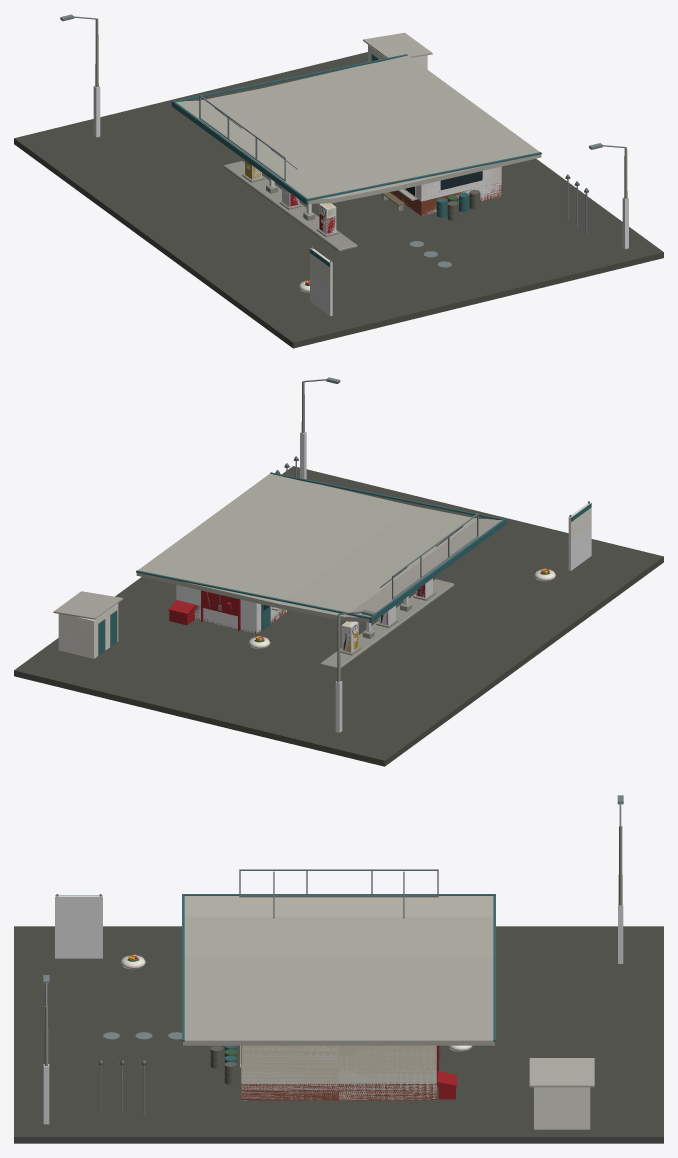
The model's file is station-plain.glb.
The picture shows the model from 3 angles, top to bottom: view 1: azimuth 30°, elevation 25°; view 2: azimuth 150°, elevation 25°; view 3: azimuth 270°, elevation 25°; orthographic projection. The views are drawn at different scales.
Visible parts, largest first — view 1: 00_#55554f_noshadow, 11_#b4b2a8, 13_#3f6f73, 01_#9a9a92, 06_#7f8a8c, solid.007, 04_#e6e2d6_noshadow, solid.009, 08_#8a4a3a, 10_#26343c; view 2: 00_#55554f_noshadow, 11_#b4b2a8, 13_#3f6f73, 04_#e6e2d6_noshadow, 01_#9a9a92, solid.007, 02_#a3262c, 06_#7f8a8c, solid.008, solid.009; view 3: 00_#55554f_noshadow, 11_#b4b2a8, solid.007, 09_#d8d0b8, 08_#8a4a3a, solid.009, 04_#e6e2d6_noshadow, 06_#7f8a8c, 13_#3f6f73, solid.008, 01_#9a9a92, 02_#a3262c (+1 smaller).
Boxes of the visible parts, left/top/right/bottom form: 00_#55554f_noshadow: left=14, top=52, right=663, bottom=348; 11_#b4b2a8: left=176, top=32, right=541, bottom=203; 13_#3f6f73: left=171, top=54, right=541, bottom=266; 01_#9a9a92: left=95, top=18, right=627, bottom=251; 06_#7f8a8c: left=60, top=14, right=626, bottom=267; solid.007: left=393, top=167, right=501, bottom=215; 04_#e6e2d6_noshadow: left=246, top=45, right=484, bottom=292; solid.009: left=310, top=248, right=332, bottom=316; 08_#8a4a3a: left=390, top=183, right=501, bottom=215; 10_#26343c: left=405, top=171, right=482, bottom=196; 00_#55554f_noshadow: left=14, top=466, right=663, bottom=766; 11_#b4b2a8: left=53, top=473, right=501, bottom=622; 13_#3f6f73: left=98, top=472, right=591, bottom=655; 04_#e6e2d6_noshadow: left=58, top=502, right=591, bottom=658; 01_#9a9a92: left=301, top=381, right=454, bottom=682; solid.007: left=176, top=585, right=287, bottom=633; 02_#a3262c: left=168, top=584, right=424, bottom=630; 06_#7f8a8c: left=218, top=377, right=589, bottom=634; solid.008: left=58, top=604, right=117, bottom=658; solid.009: left=568, top=503, right=591, bottom=570; 00_#55554f_noshadow: left=14, top=926, right=663, bottom=1143; 11_#b4b2a8: left=183, top=896, right=594, bottom=1087; solid.007: left=241, top=1045, right=436, bottom=1100; 09_#d8d0b8: left=241, top=1045, right=436, bottom=1083; 08_#8a4a3a: left=241, top=1083, right=436, bottom=1100; solid.009: left=55, top=895, right=102, bottom=958; 04_#e6e2d6_noshadow: left=55, top=895, right=590, bottom=1129; 06_#7f8a8c: left=43, top=795, right=623, bottom=1114; 13_#3f6f73: left=55, top=894, right=495, bottom=1064; solid.008: left=534, top=1087, right=590, bottom=1129; 01_#9a9a92: left=44, top=826, right=622, bottom=1065; 02_#a3262c: left=437, top=1045, right=456, bottom=1099.
Bounding box in the file's own units: 23 × 7.86 × 30.
